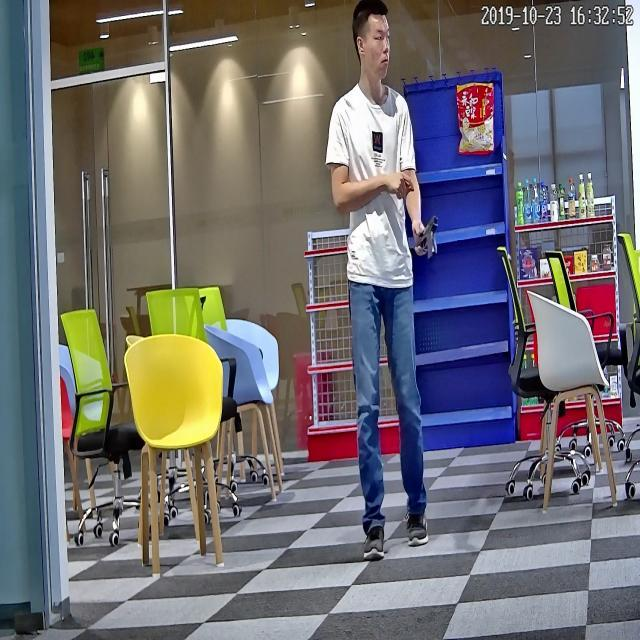gun-knife-thesis - v11 Yolov5 augmented: (410, 207, 442, 264)
